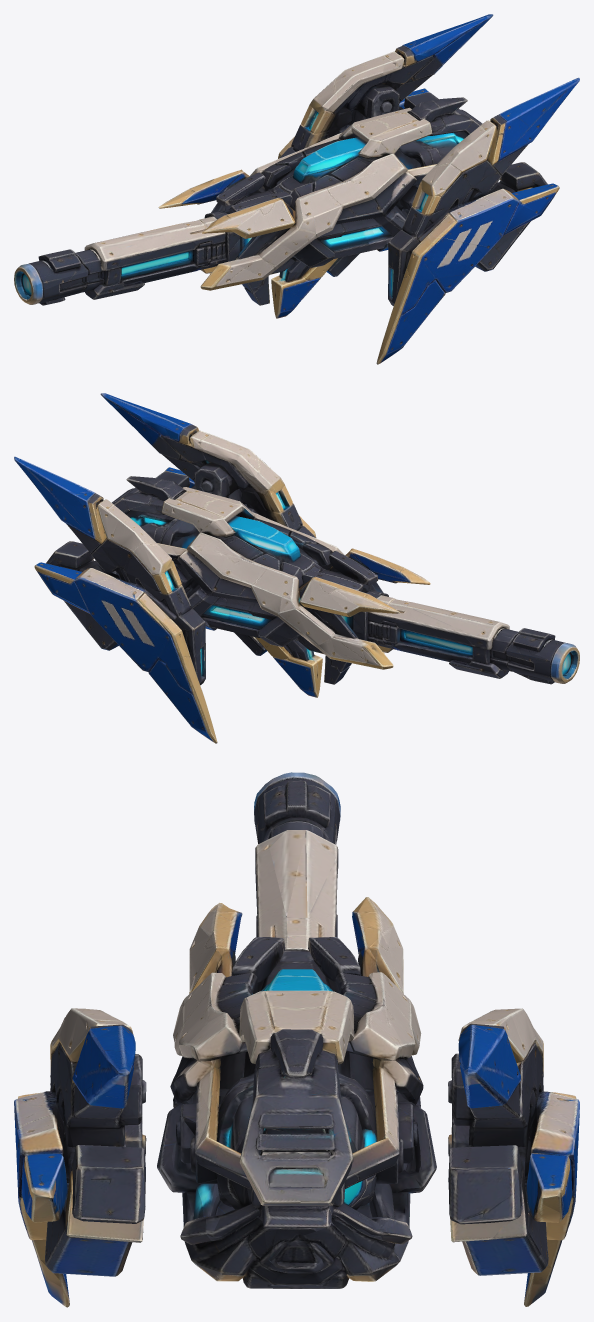
Rendered from drone-blue-ranged.glb.
3 renders of one model, top to bottom at view 1: azimuth 30°, elevation 25°; view 2: azimuth 150°, elevation 25°; view 3: azimuth 270°, elevation 25°, orthographic. The views are drawn at different scales.
Size of the model in its own units: 1.9 by 0.7873 by 0.9196.
1 material, 1 textured.
